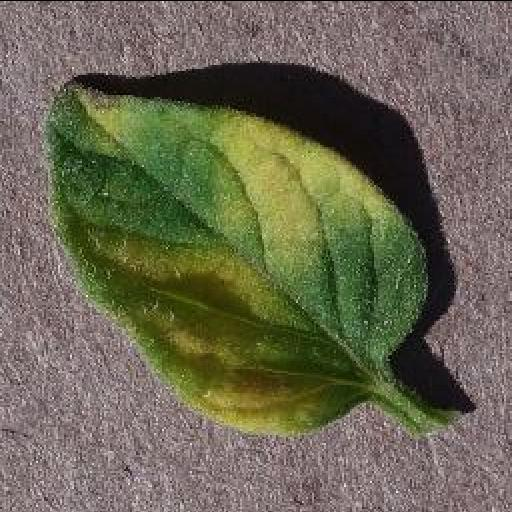disease_tomato: (41, 77, 427, 434)
